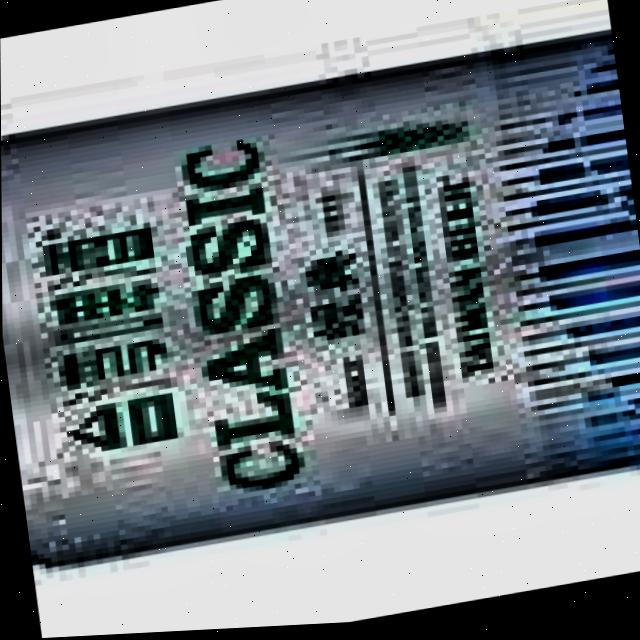metal: (0, 18, 640, 596)
